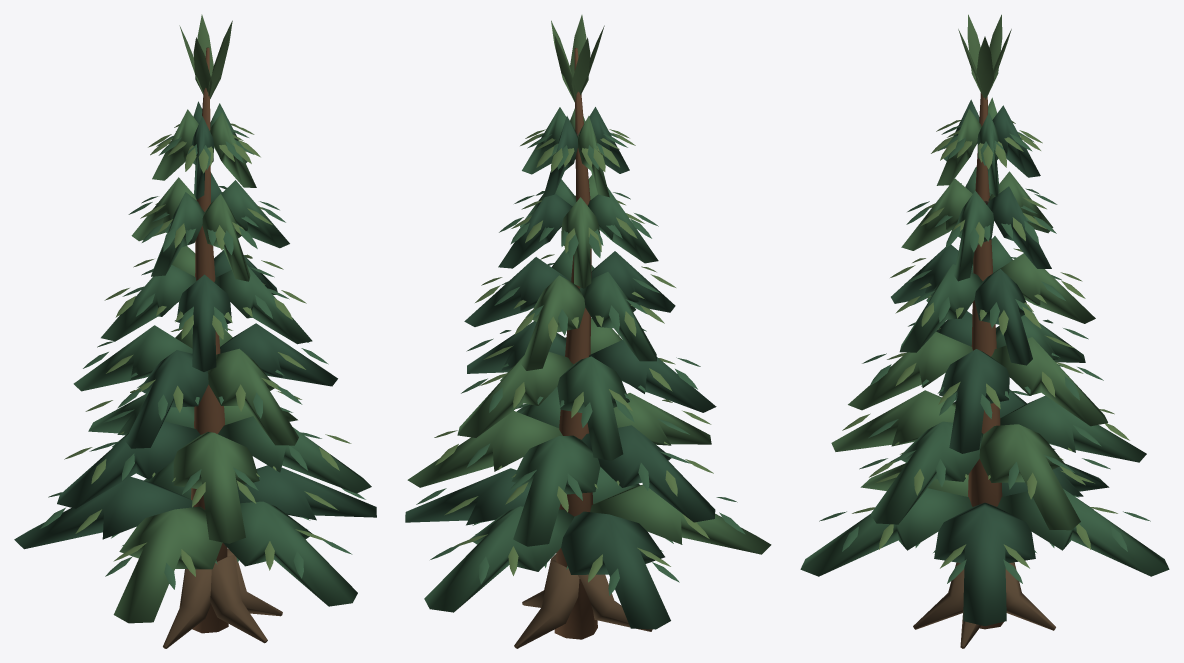
File: woodland_spruce_tiered.hi.glb
3 views of the same model, side by side, from view 1: azimuth 30°, elevation 25°; view 2: azimuth 150°, elevation 25°; view 3: azimuth 270°, elevation 25° (orthographic).
Parts seen in each view (by area): view 1: body; view 2: body; view 3: body.
Boxes of the visible parts, <box> form: body: <box>14,14,376,648</box>; body: <box>405,15,771,648</box>; body: <box>800,14,1169,648</box>.
Bounding box in the file's own units: 1.76 × 3.22 × 1.81.
